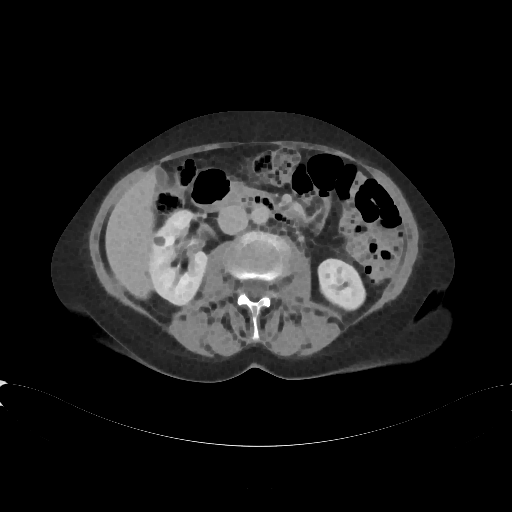Lesion: (144, 269, 153, 278)
